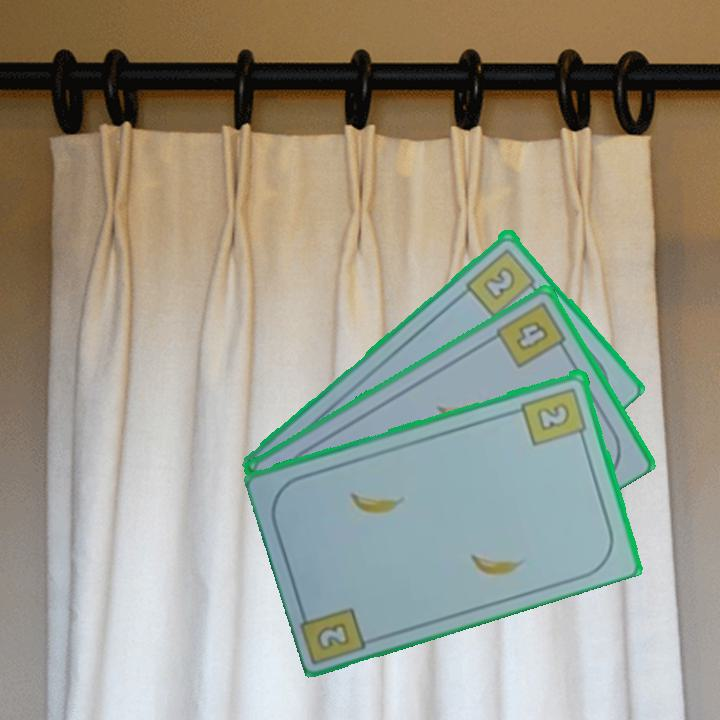2b: (462, 244, 543, 320), (518, 383, 590, 448), (313, 618, 353, 653)
4b: (492, 298, 572, 371)
